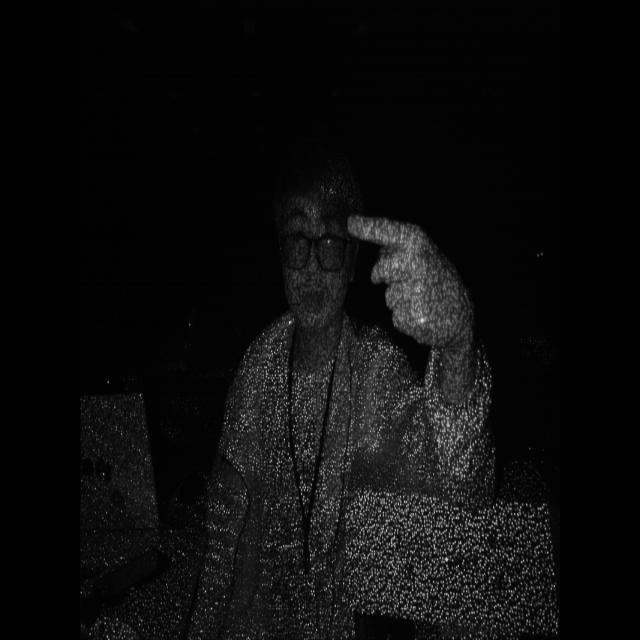G: (338, 178, 492, 375)
